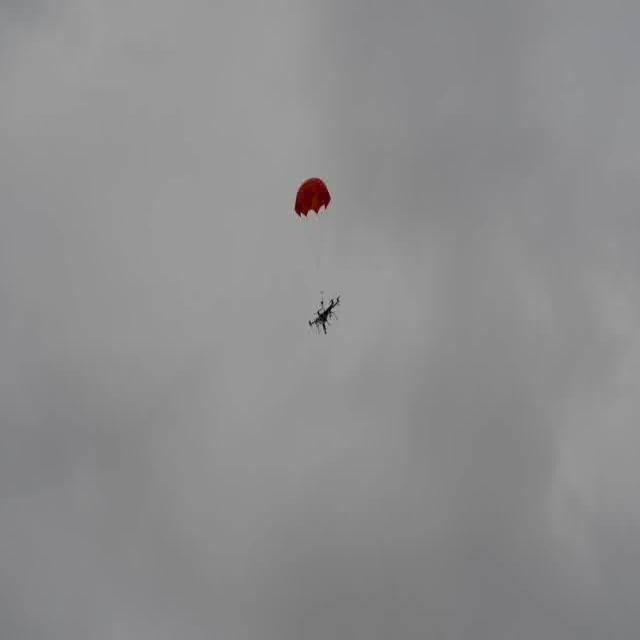Drone_FW: (303, 287, 343, 334)
